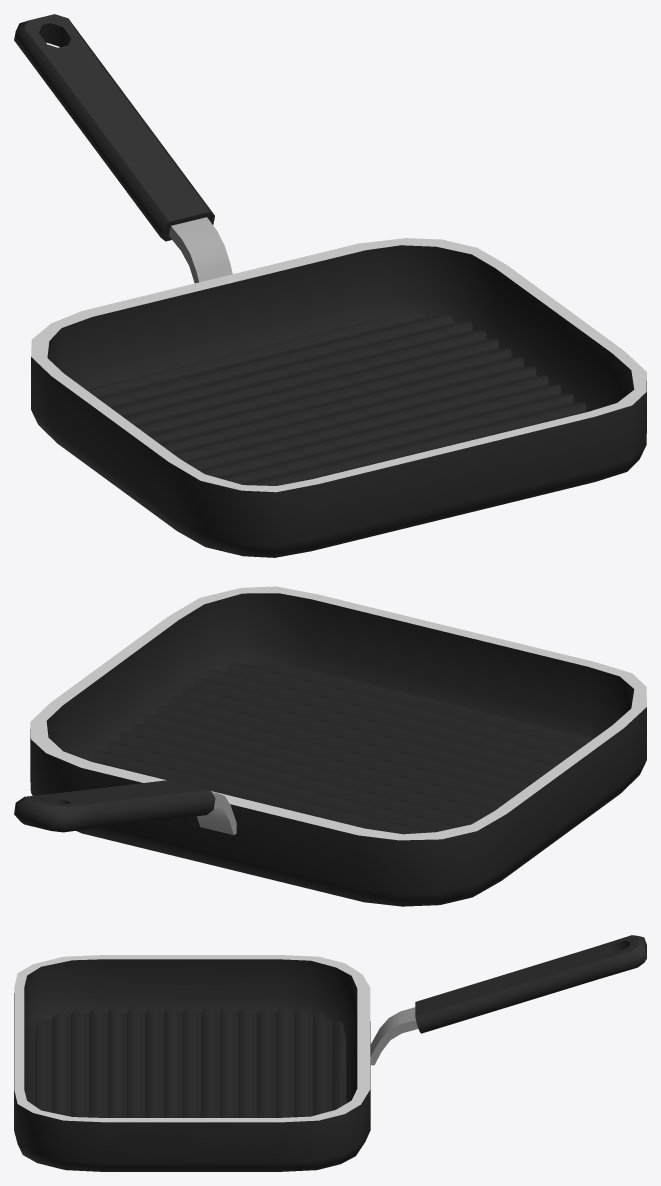
The model's file is GrillPan_01.fbx.
3 renders of one model, top to bottom at view 1: azimuth 30°, elevation 25°; view 2: azimuth 150°, elevation 25°; view 3: azimuth 270°, elevation 25°, orthographic. The views are drawn at different scales.
Parts seen in each view (by area): view 1: GrillPan_01; view 2: GrillPan_01; view 3: GrillPan_01.
Part boxes in pixels (box(x1,y1,x2,y2)): GrillPan_01: box(14, 14, 646, 557); GrillPan_01: box(14, 586, 646, 906); GrillPan_01: box(14, 935, 646, 1171).
Size of the model in its own units: 0.3989 by 0.1711 by 0.6369.
